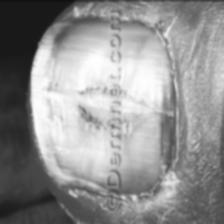Toxin: (76, 78, 158, 134)
